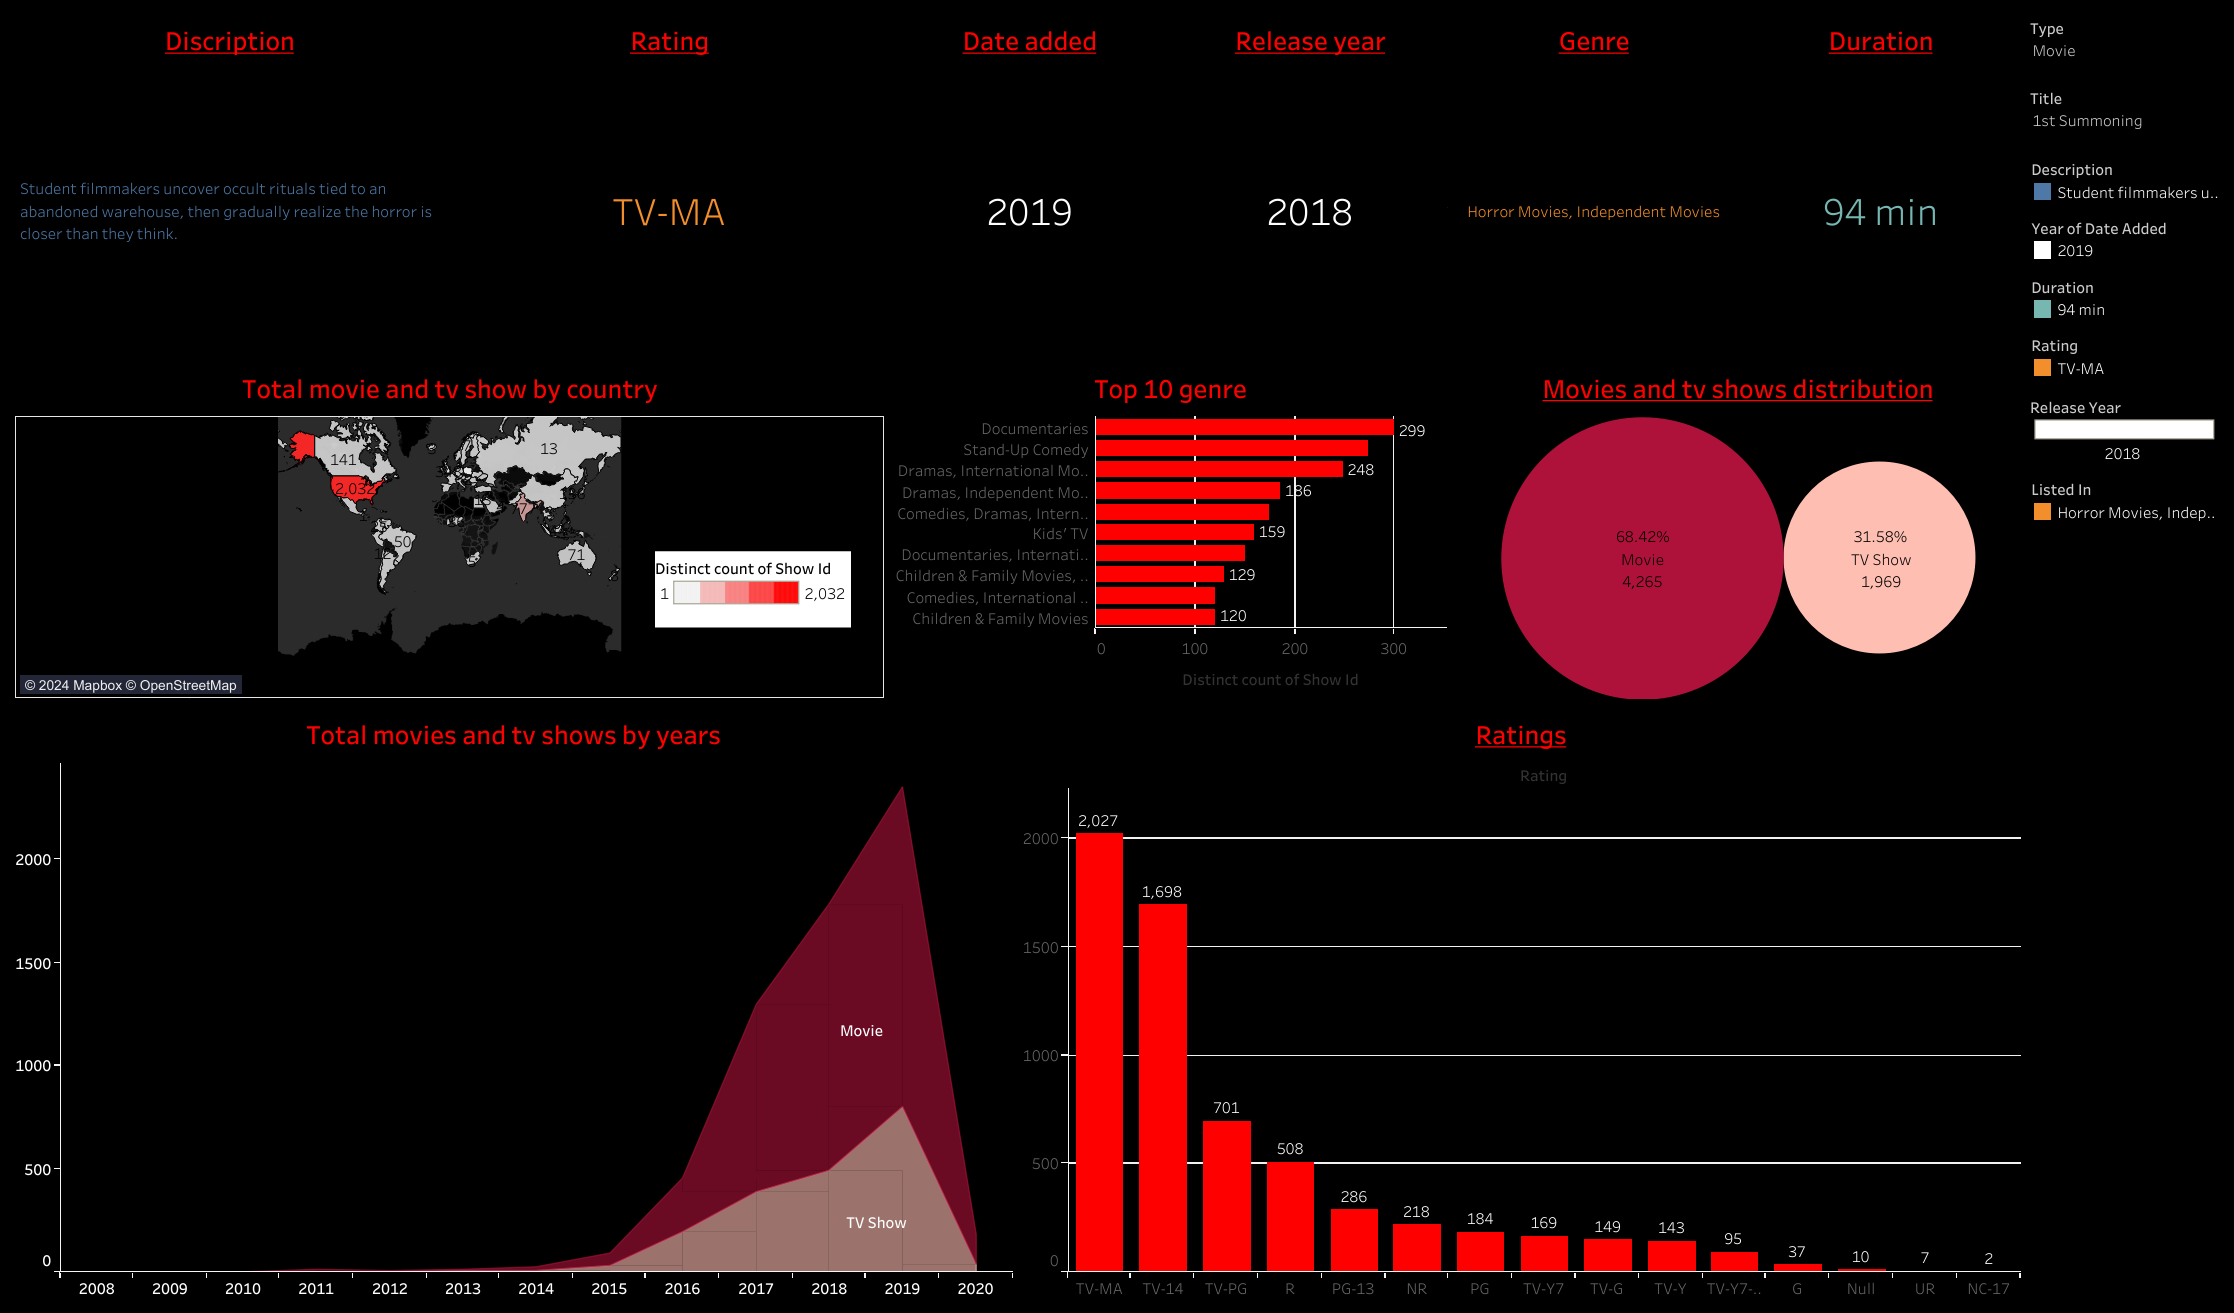

The page's visual inventory and layout, read from the dashboard file:
{"tool":"tableau","page":{"name":"Dashboard 1","canvas":[1788,1051],"ordinal":0},"visuals":[{"type":"worksheet","title":"Description","mark":"Automatic","box":[8,8,352,277.6]},{"type":"worksheet","title":"Rating","mark":"Automatic","box":[360,8,352,277.6]},{"type":"worksheet","title":"Date added","mark":"Automatic","box":[712,8,224.4,277.6]},{"type":"worksheet","title":"Release year","mark":"Automatic","box":[936.4,8,224.4,277.6]},{"type":"worksheet","title":"Genre","mark":"Automatic","box":[1160.9,8,229.5,277.6]},{"type":"worksheet","title":"Duration","mark":"Automatic","box":[1390.4,8,229.6,277.6]},{"type":"filter","title":"Description","param":"[federated.1u4ak7g1tp6x8w1blhrjc0veqax9].[none:type:nk]","box":[1620,8,160,61]},{"type":"filter","title":"Description","param":"[federated.1u4ak7g1tp6x8w1blhrjc0veqax9].[none:title:nk]","box":[1620,69,160,61]},{"type":"legend","title":"Description","param":"[federated.1u4ak7g1tp6x8w1blhrjc0veqax9].[none:description:nk]","box":[1620,130,160,51]},{"type":"legend","title":"Date added","param":"[federated.1u4ak7g1tp6x8w1blhrjc0veqax9].[yr:date_added:ok]","box":[1620,181,160,51]},{"type":"legend","title":"Duration","param":"[federated.1u4ak7g1tp6x8w1blhrjc0veqax9].[none:duration:nk]","box":[1620,232,160,51]},{"type":"legend","title":"Rating","param":"[federated.1u4ak7g1tp6x8w1blhrjc0veqax9].[none:rating:nk]","box":[1620,283,160,51]},{"type":"worksheet","title":"Total movie and tv show by country","mark":"Multipolygon","box":[8,285.6,704,277.6]},{"type":"worksheet","title":"Top 10 genre","mark":"Automatic","rows":["listed_in"],"cols":["show_id"],"box":[712,285.6,448.9,277.6]},{"type":"worksheet","title":"Movies and tv shows distribution","mark":"Circle","box":[1160.9,285.6,459.1,277.6]},{"type":"legend","title":"Release year","param":"[federated.1u4ak7g1tp6x8w1blhrjc0veqax9].[none:release_year:qk]","box":[1620,334,160,73]},{"type":"legend","title":"Genre","param":"[federated.1u4ak7g1tp6x8w1blhrjc0veqax9].[none:listed_in:nk]","box":[1620,407,160,51]},{"type":"legend","title":"Total movie and tv show by country","param":"[federated.1u4ak7g1tp6x8w1blhrjc0veqax9].[ctd:show_id:qk]","box":[523.6,440.9,157.6,108.7]},{"type":"worksheet","title":"Total movies and tv shows by years","mark":"Area","rows":["show_id"],"cols":["date_added"],"box":[8,563.2,805.9,479.8]},{"type":"worksheet","title":"Ratings","mark":"Automatic","rows":["show_id"],"cols":["rating"],"box":[813.9,563.2,806.1,479.8]}]}

Visuals, with their boxes in screenshot pixels (x1, y1, x2, y2), scaled from the page's 1788x1051 canvas onto the 2234x1313 screenshot:
"Description" worksheet: locate(10, 10, 450, 357)
"Rating" worksheet: locate(450, 10, 890, 357)
"Date added" worksheet: locate(890, 10, 1170, 357)
"Release year" worksheet: locate(1170, 10, 1450, 357)
"Genre" worksheet: locate(1450, 10, 1737, 357)
"Duration" worksheet: locate(1737, 10, 2024, 357)
"Description" filter: locate(2024, 10, 2224, 86)
"Description" filter: locate(2024, 86, 2224, 162)
"Description" legend: locate(2024, 162, 2224, 226)
"Date added" legend: locate(2024, 226, 2224, 290)
"Duration" legend: locate(2024, 290, 2224, 354)
"Rating" legend: locate(2024, 354, 2224, 417)
"Total movie and tv show by country" worksheet (Multipolygon marks): locate(10, 357, 890, 704)
"Top 10 genre" worksheet: locate(890, 357, 1450, 704)
"Movies and tv shows distribution" worksheet (Circle marks): locate(1450, 357, 2024, 704)
"Release year" legend: locate(2024, 417, 2224, 508)
"Genre" legend: locate(2024, 508, 2224, 572)
"Total movie and tv show by country" legend: locate(654, 551, 851, 687)
"Total movies and tv shows by years" worksheet (Area marks): locate(10, 704, 1017, 1303)
"Ratings" worksheet: locate(1017, 704, 2024, 1303)
